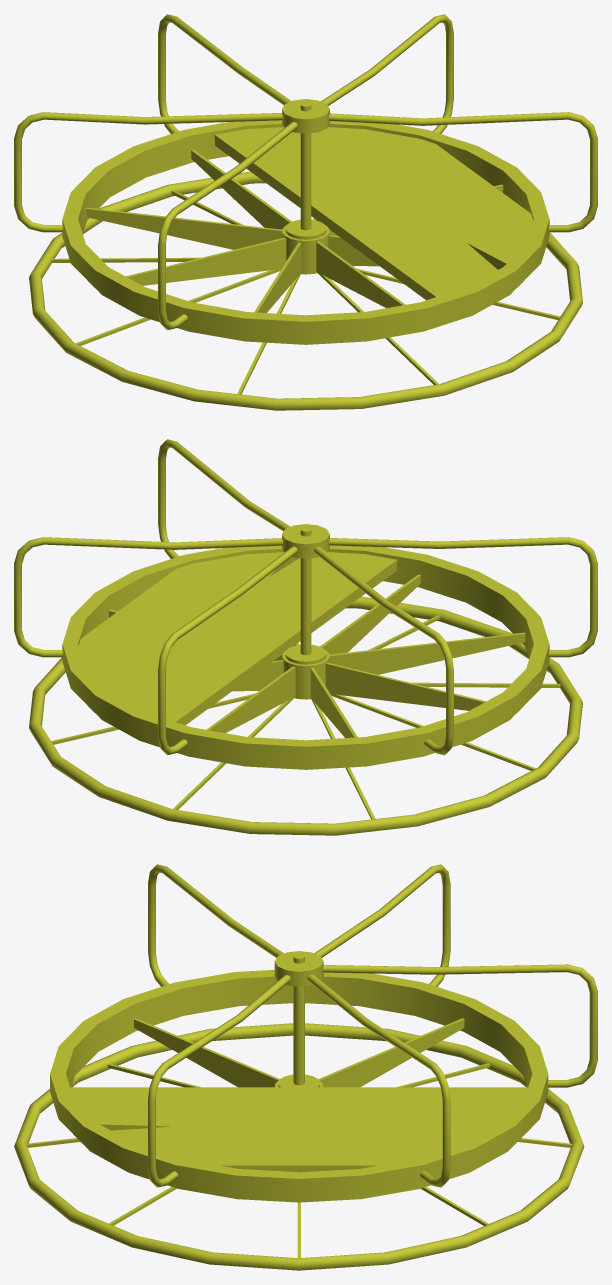
The picture shows the model from 3 angles, top to bottom: view 1: azimuth 30°, elevation 25°; view 2: azimuth 150°, elevation 25°; view 3: azimuth 270°, elevation 25°; orthographic projection. The views are drawn at different scales.
Visible parts, largest first — view 1: carousel_002, carousel_001; view 2: carousel_002, carousel_001; view 3: carousel_002, carousel_001.
Boxes of the visible parts, x1,y1,x2,y2 form: carousel_002: [14, 14, 597, 344]; carousel_001: [29, 171, 582, 410]; carousel_002: [14, 439, 597, 769]; carousel_001: [29, 596, 582, 835]; carousel_002: [50, 864, 597, 1202]; carousel_001: [14, 1023, 584, 1270].
Size of the model in its own units: 2053 by 772 by 2102.
